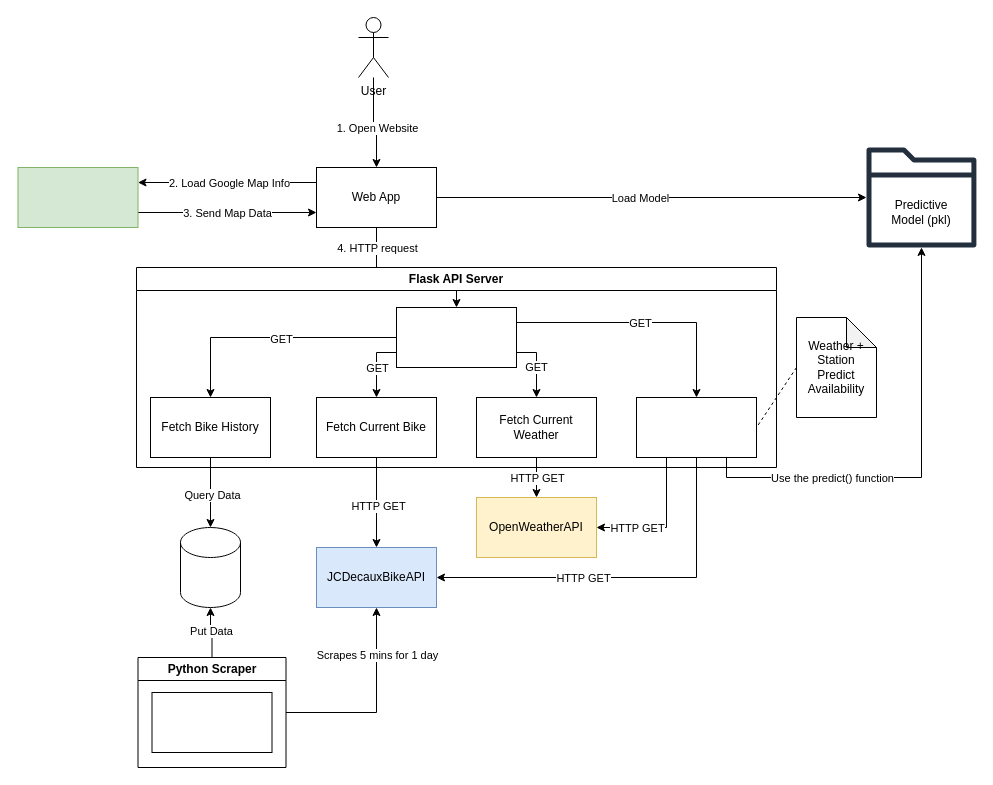
Some shapes in this 993 by 785 pixel diagram are drawn without their labels. The box of each missing label's shape, as (x1, y1, x2, y2) in pixels:
Bike Data Scraper: (151, 692, 272, 752)
Google Maps API: (17, 166, 138, 228)
MySQL: (180, 526, 240, 608)
Plan Journey: (636, 396, 756, 458)
URL Routing: (396, 306, 516, 368)
